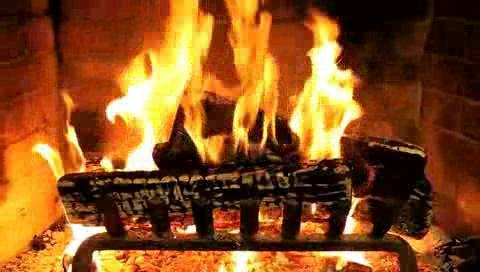fire: (9, 0, 479, 177)
